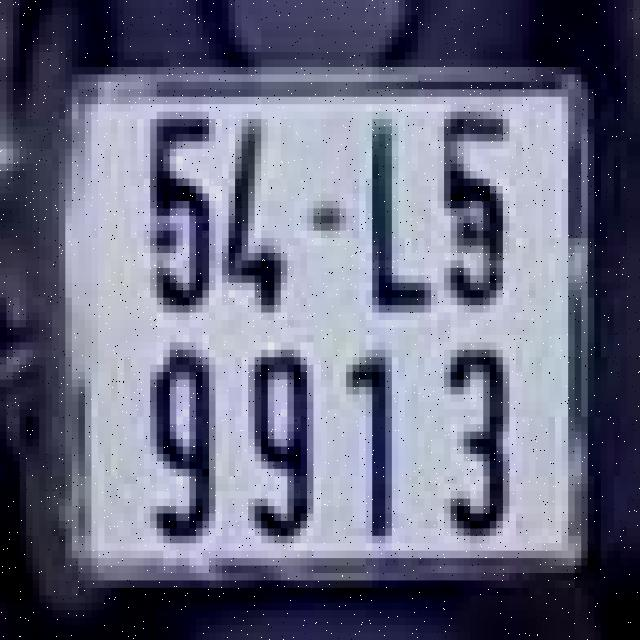1: (343, 338, 408, 554)
3: (438, 335, 522, 551)
4: (218, 112, 290, 320)
5: (134, 111, 219, 328), (431, 104, 516, 320)
9: (140, 331, 226, 555), (235, 339, 327, 547)
L: (352, 104, 438, 328)
